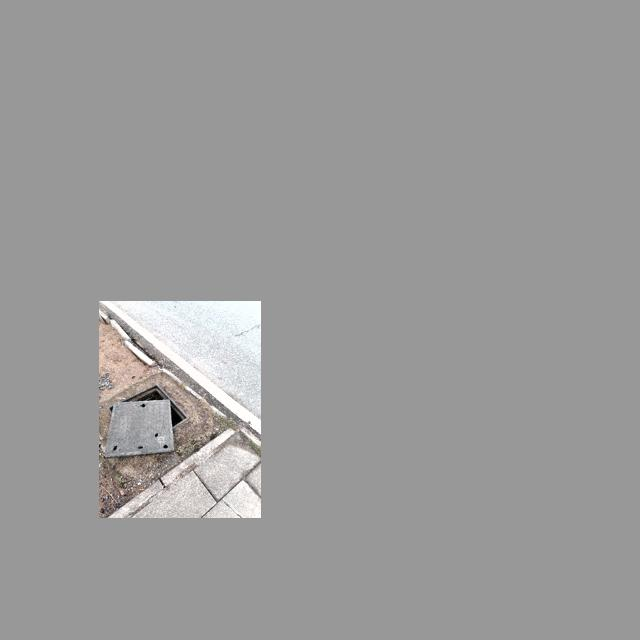uncovered: (105, 383, 190, 458)
